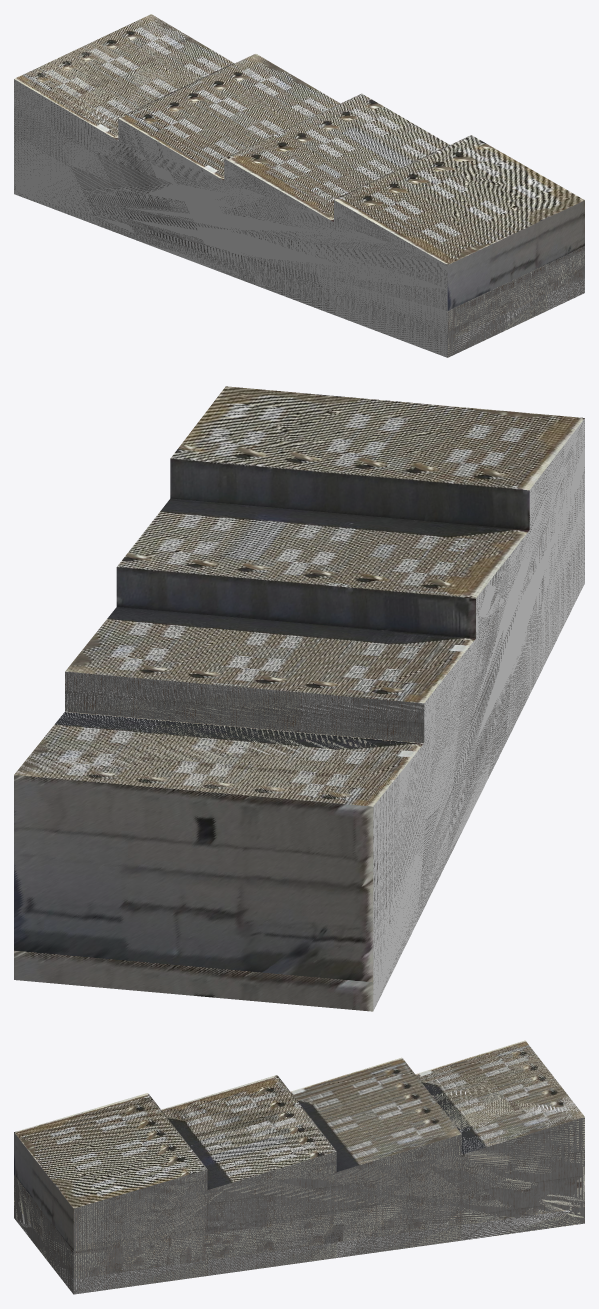
Rendered from bigHangarBehindRamp.dae.
The picture shows the model from 3 angles, top to bottom: view 1: azimuth 30°, elevation 25°; view 2: azimuth 150°, elevation 25°; view 3: azimuth 270°, elevation 25°; orthographic projection. The views are drawn at different scales.
Visible parts, largest first — view 1: SketchUp (×7); view 2: SketchUp (×9); view 3: SketchUp (×6).
Part boxes in pixels (<box>): SketchUp (×7): <box>14,14,584,357</box>; SketchUp (×9): <box>14,386,584,1011</box>; SketchUp (×6): <box>14,1040,584,1294</box>.
Size of the model in its own units: 1551 by 2536 by 522.
Materials: 9 (8 with a texture image).
